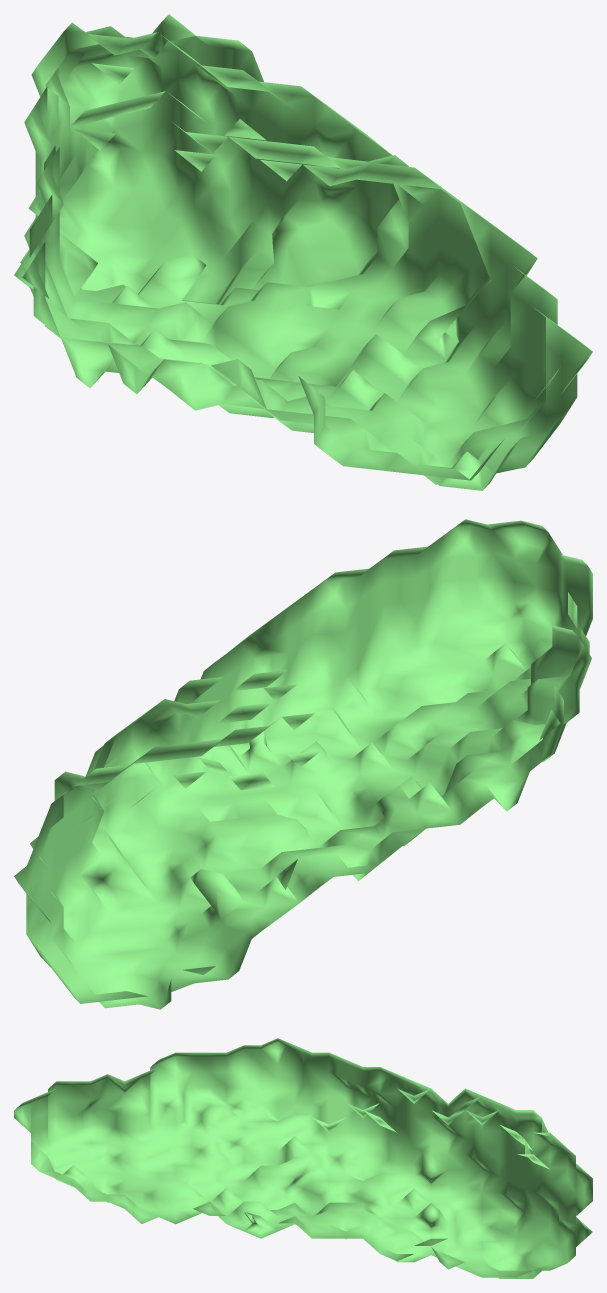
File: osteocyte_48.glb
3 views of the same model, one above another, from view 1: azimuth 30°, elevation 25°; view 2: azimuth 150°, elevation 25°; view 3: azimuth 270°, elevation 25° (orthographic). The views are drawn at different scales.
Parts seen in each view (by area): view 1: osteocyte_48; view 2: osteocyte_48; view 3: osteocyte_48.
Boxes of the visible parts, x1,y1,x2,y2 form: osteocyte_48: [14, 14, 592, 490]; osteocyte_48: [14, 519, 592, 1009]; osteocyte_48: [14, 1038, 592, 1278].
Bounding box in the file's own units: 8.19 × 4.81 × 16.37.
